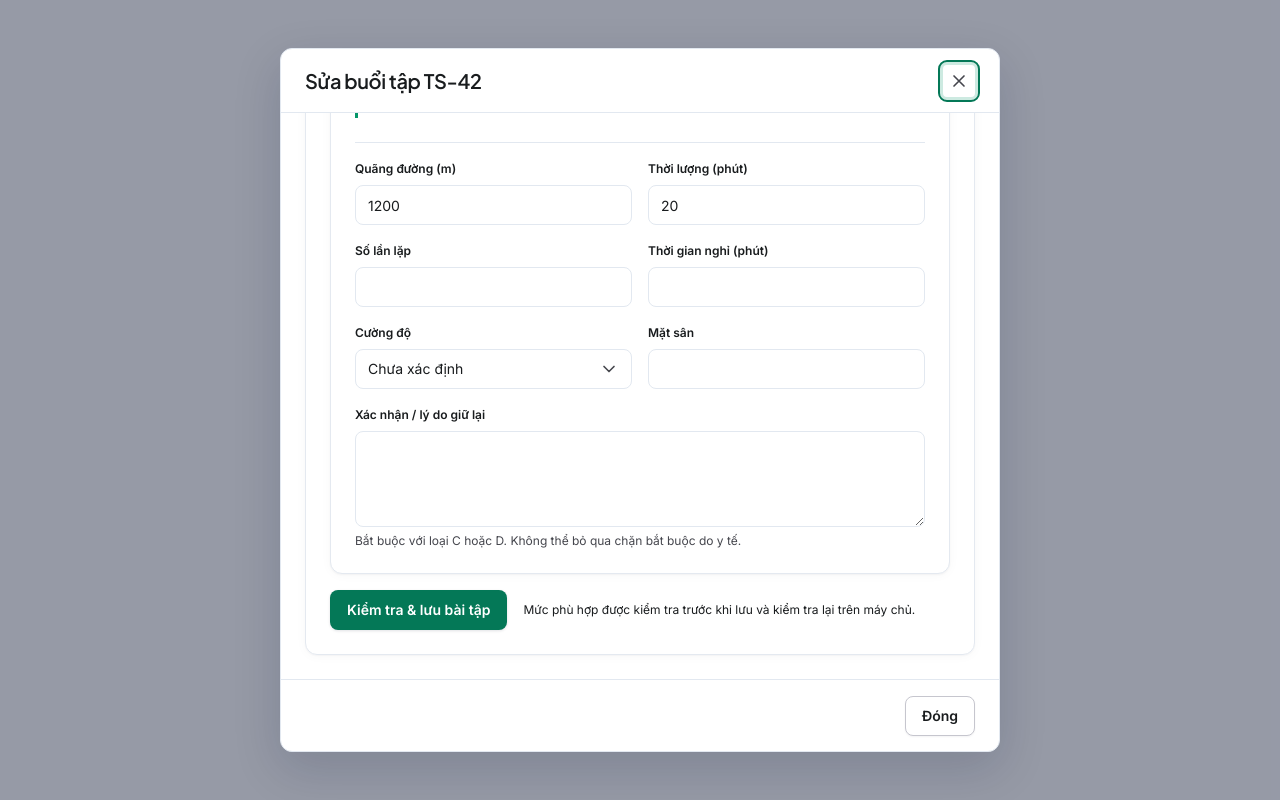
Test: checks suitability before replacing exercises and stops on a medical hard block
(page scrolled)
Click the button "Kiểm tra & lưu bài tập": (419, 610) [330, 590, 507, 630]
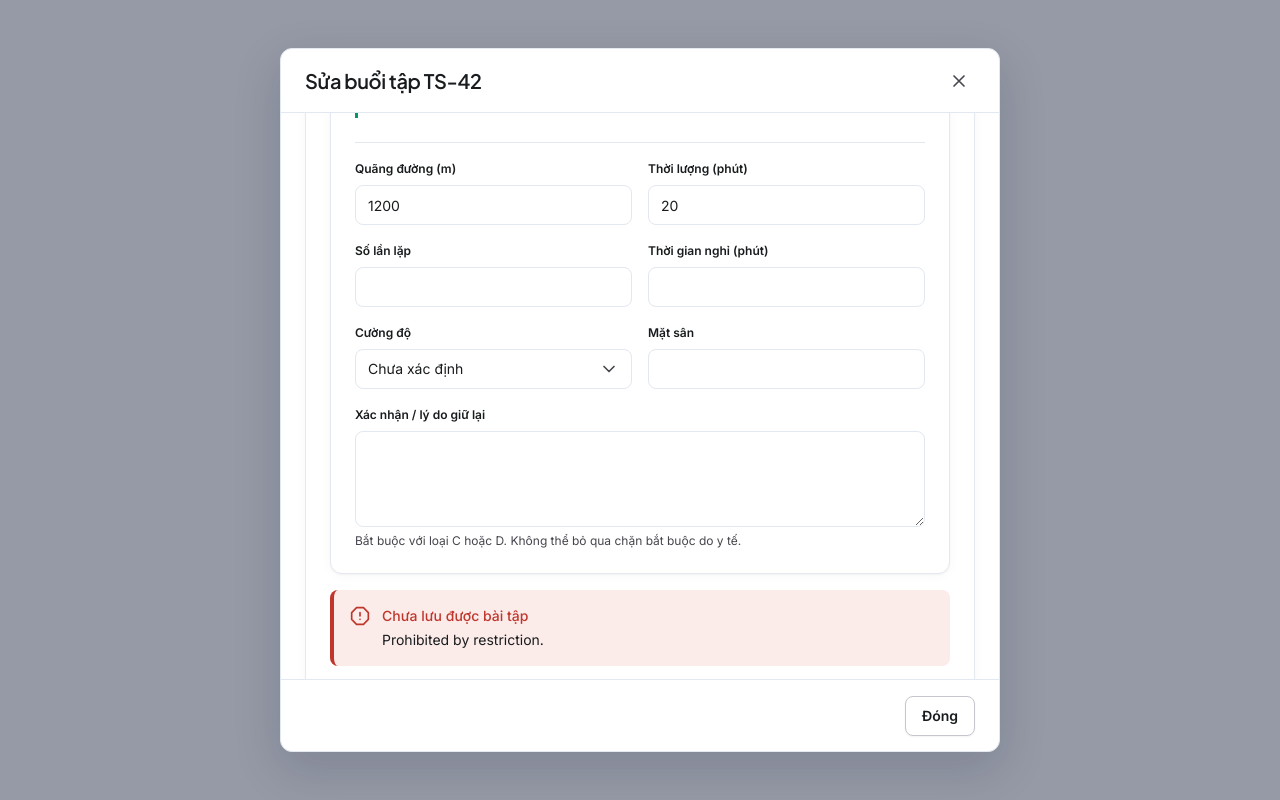
Now the text "Prohibited by restriction." is shown, box [382, 631, 544, 648]
